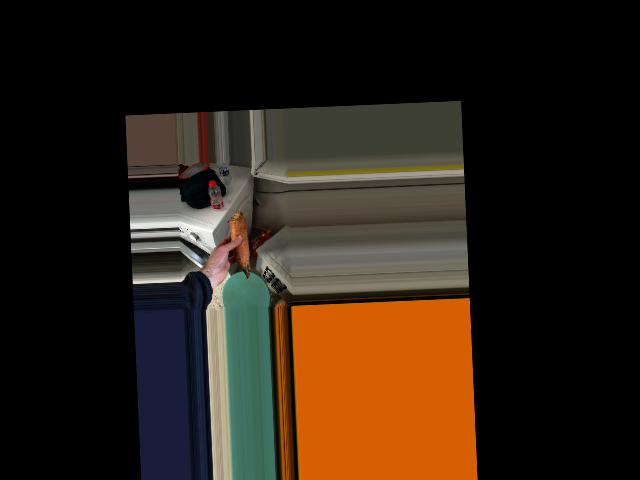sweet_potato: (224, 208, 252, 281)
